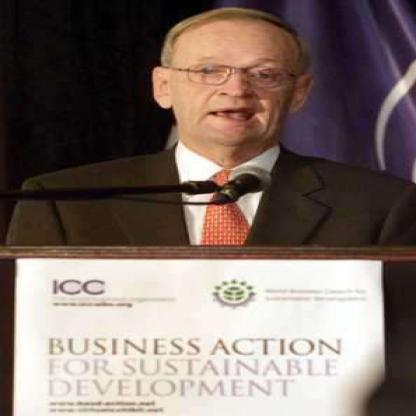face: (169, 10, 301, 149)
